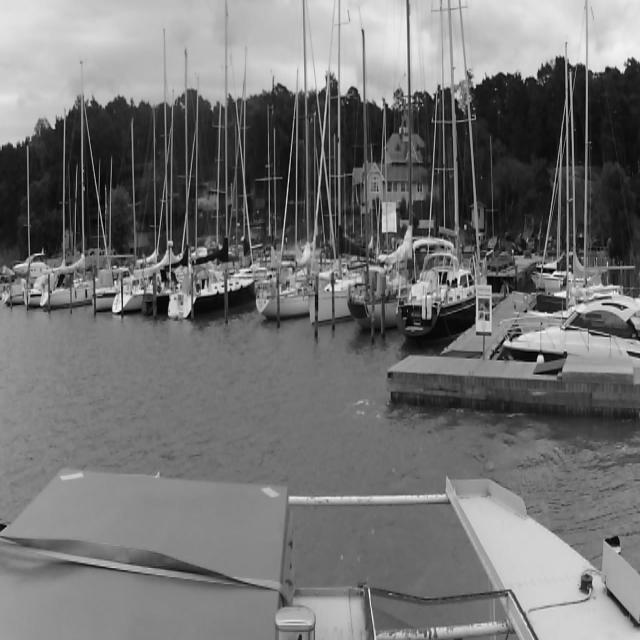ship: (374, 2, 482, 346), (340, 0, 438, 320), (156, 2, 254, 316), (299, 5, 396, 321), (105, 19, 195, 310), (32, 58, 114, 306), (503, 308, 639, 362)
